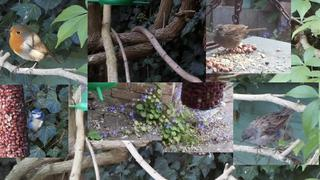blue tit: (24, 109, 44, 139)
dunnock: (240, 106, 295, 155), (213, 24, 267, 55)
robin: (5, 24, 64, 77)
